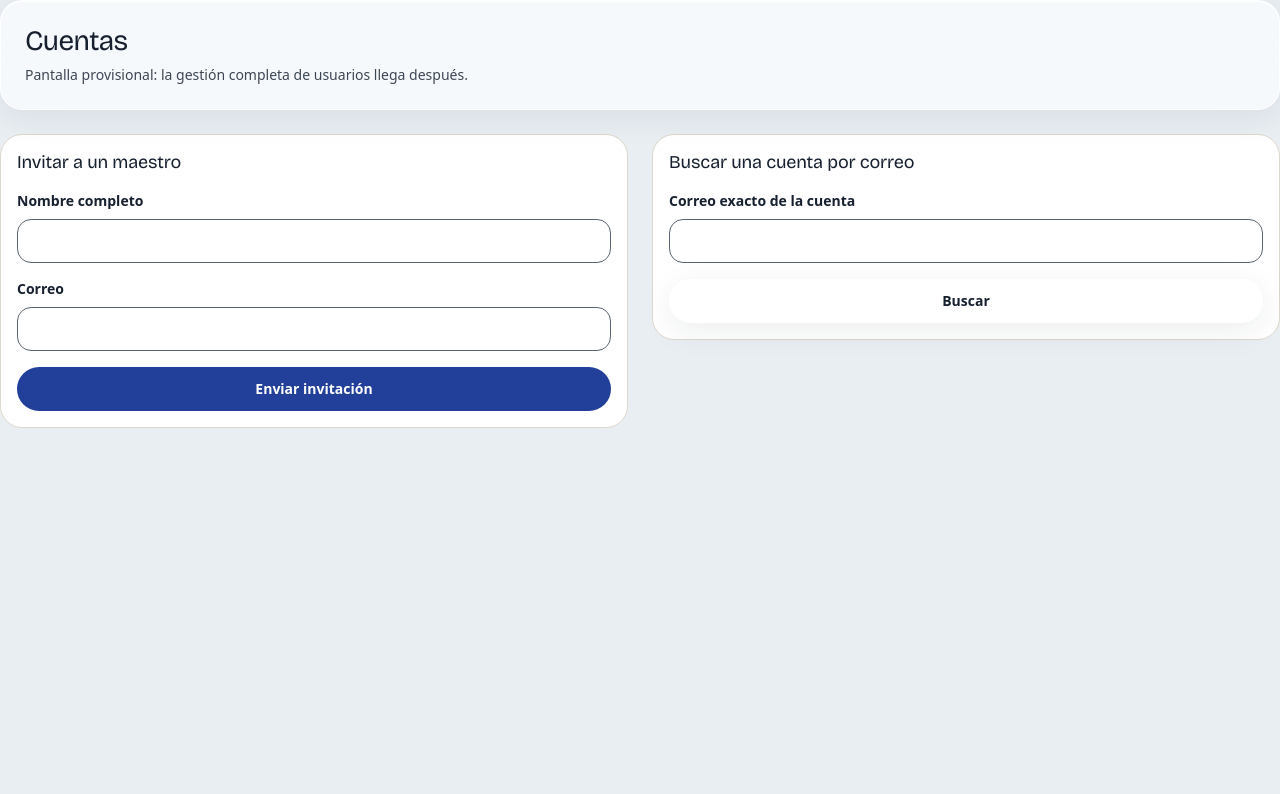
it: ataque (AUTH-02b r1): la temporal se ve una sola vez › buscar otra cuenta con un correo mal escrito (rechazado en el cliente) hace desaparecer la temporal
Type "carla@ejemplo.mx" into the field labelled "Correo exacto de la cuenta" at point(966, 241), box [669,219,1263,263]
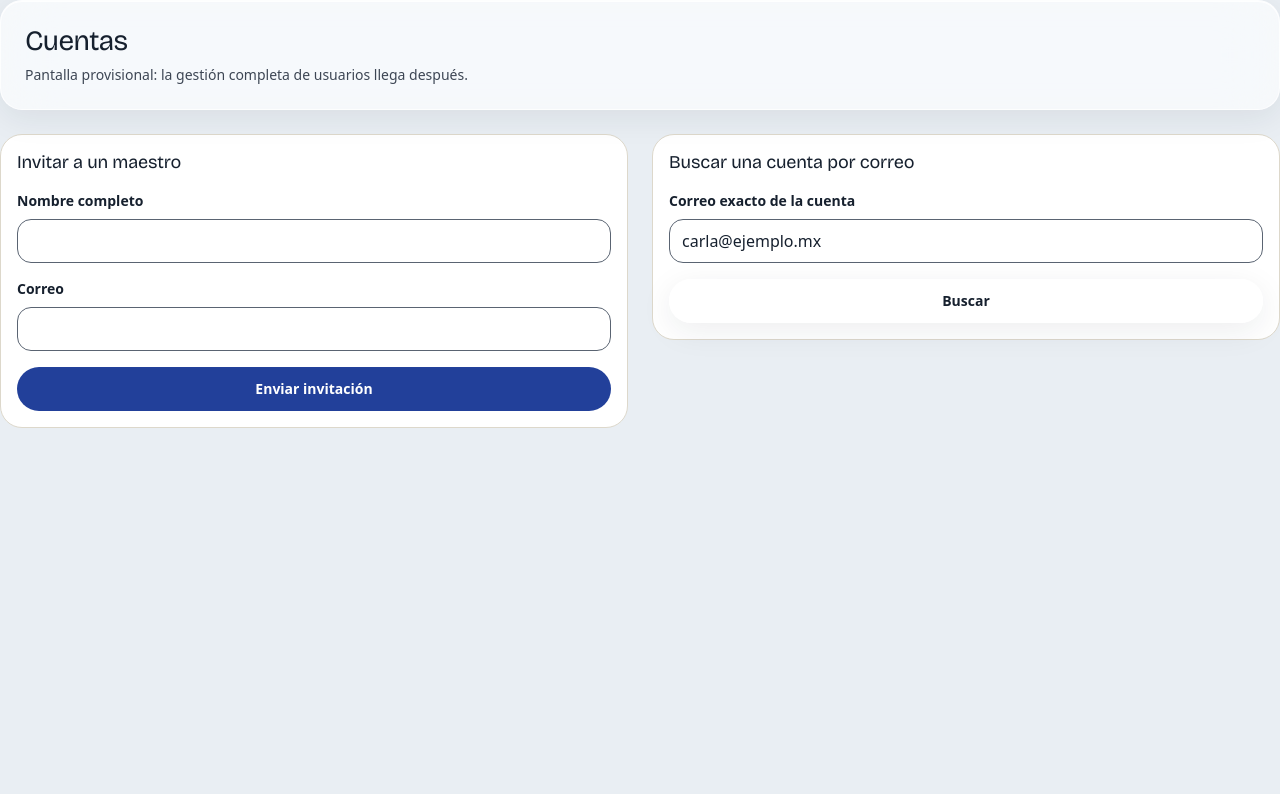
Click the button "Buscar" at point(966, 301), box [669,279,1263,323]
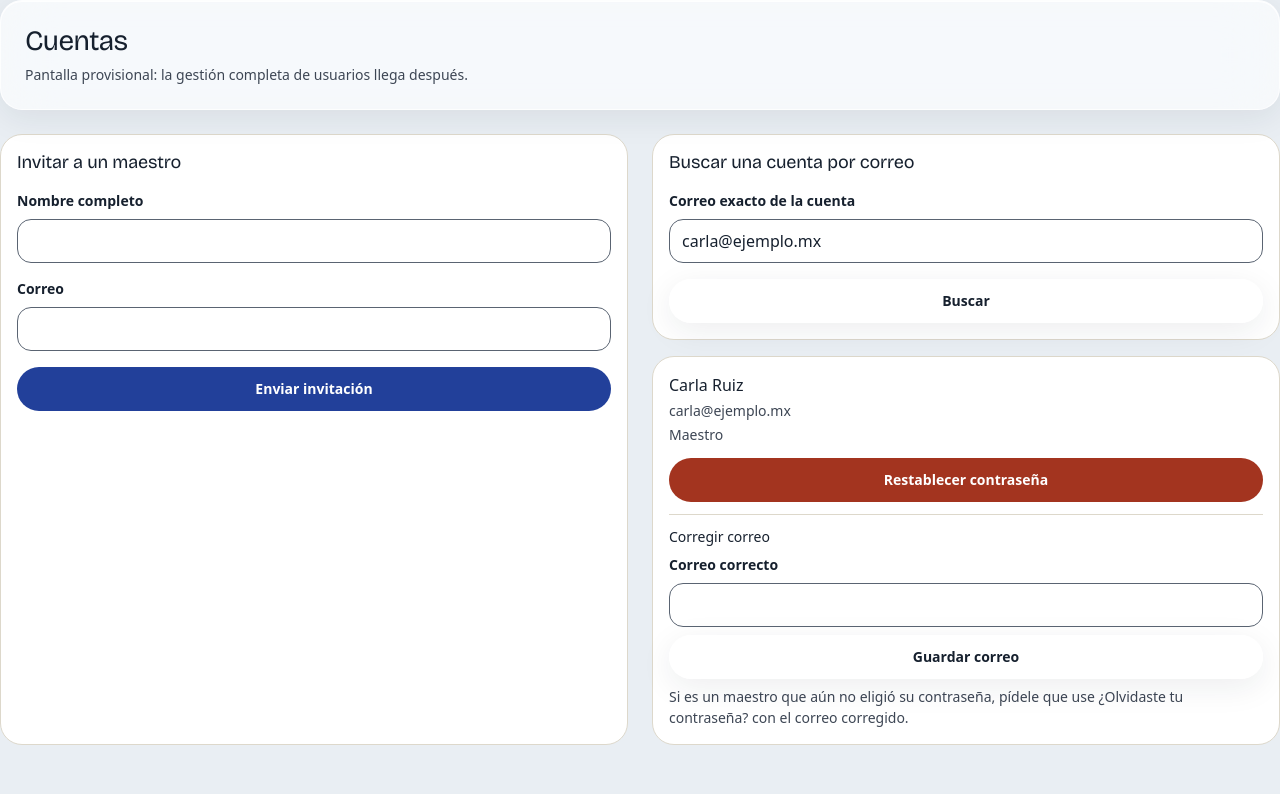
expect the text "Carla Ruiz" is shown: met, box [669,374,744,396]
Click the button "Restablecer contraseña" at point(966, 480), box [669,458,1263,502]
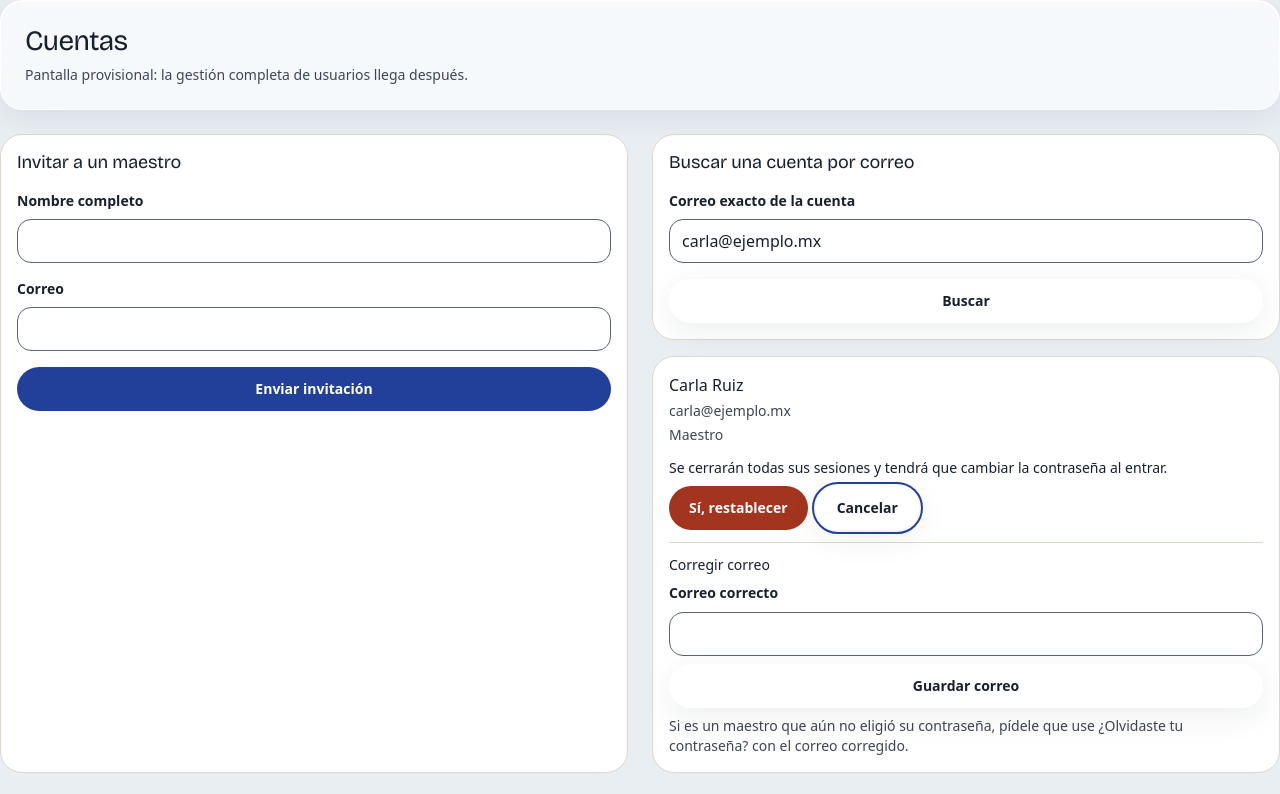
Click the button "Sí, restablecer" at point(738, 508), box [669,486,808,530]
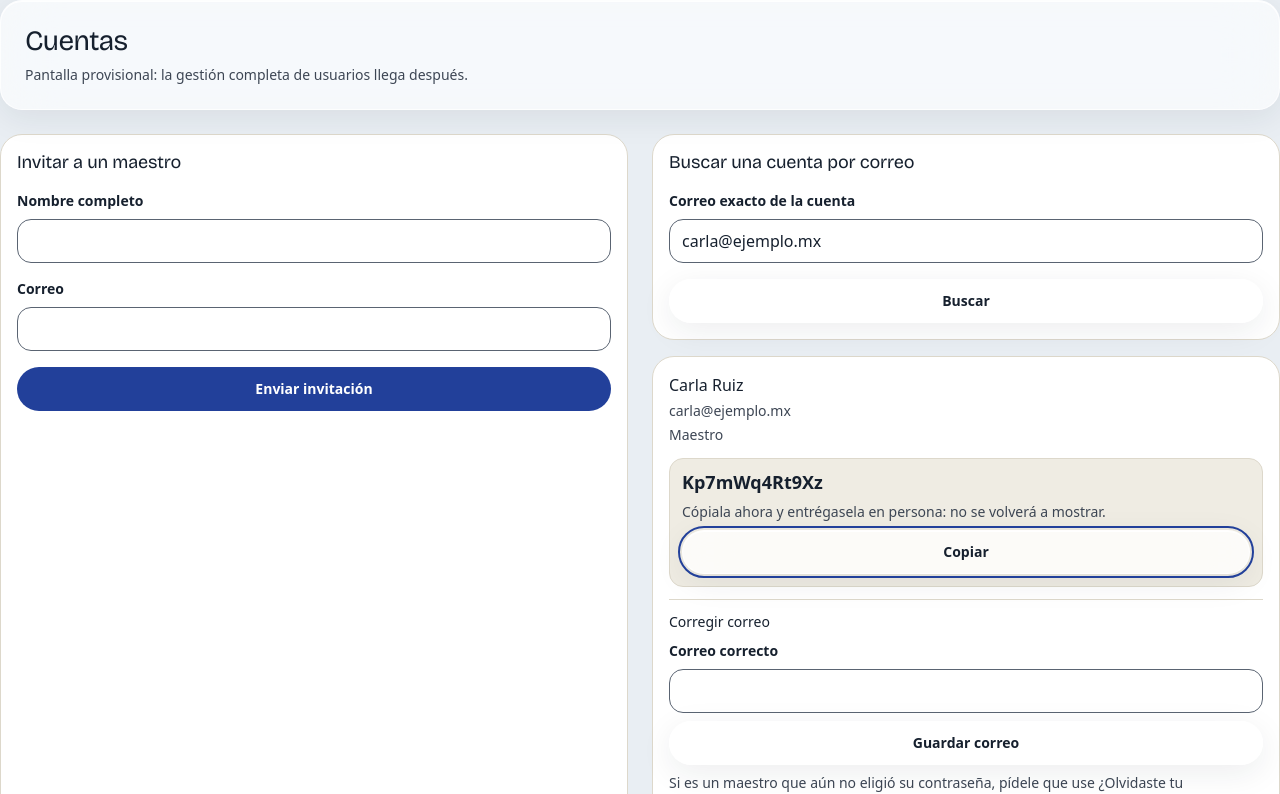
expect the text "Kp7mWq4Rt9Xz" is shown: met, box [682,470,823,494]
Replace the text in the field labelled "Correo exacto de la cuenta" with "beto@ejemplo" at point(966, 241), box [669,219,1263,263]
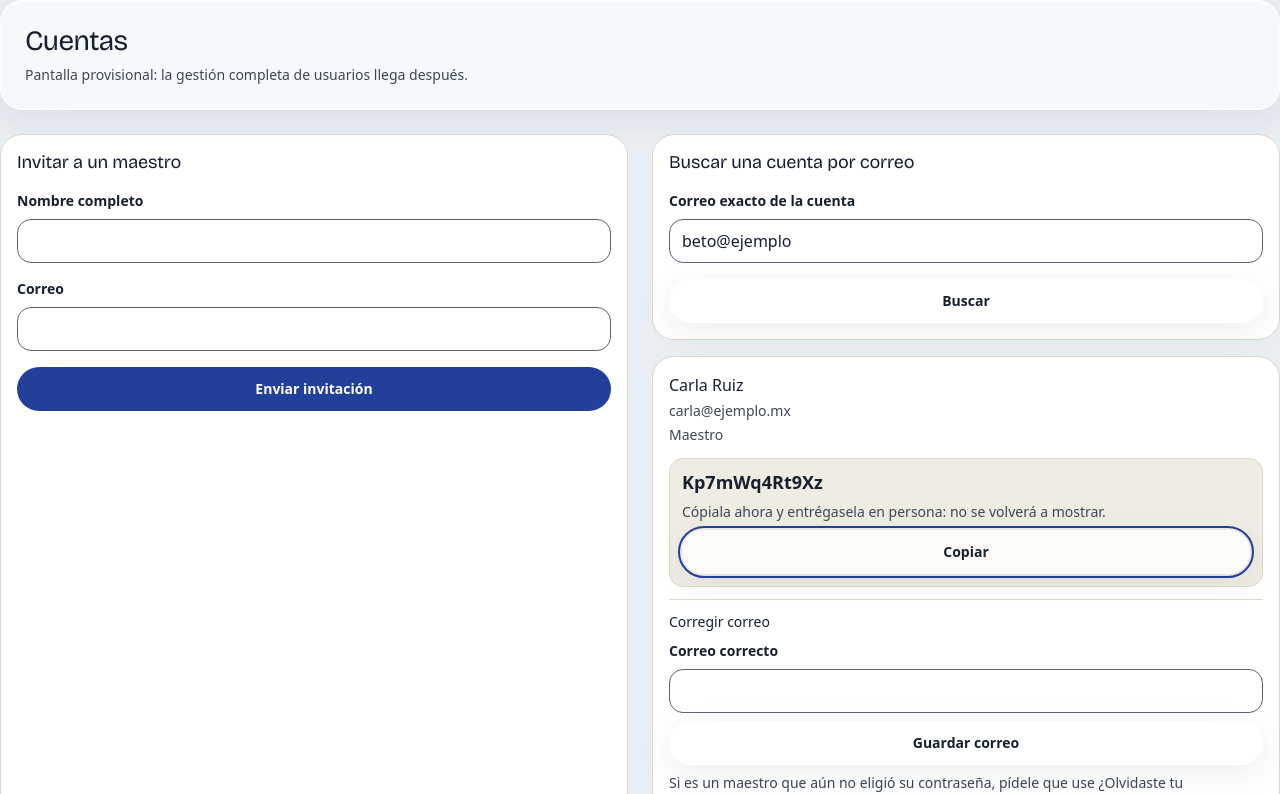
Click the button "Buscar" at point(966, 301), box [669,279,1263,323]
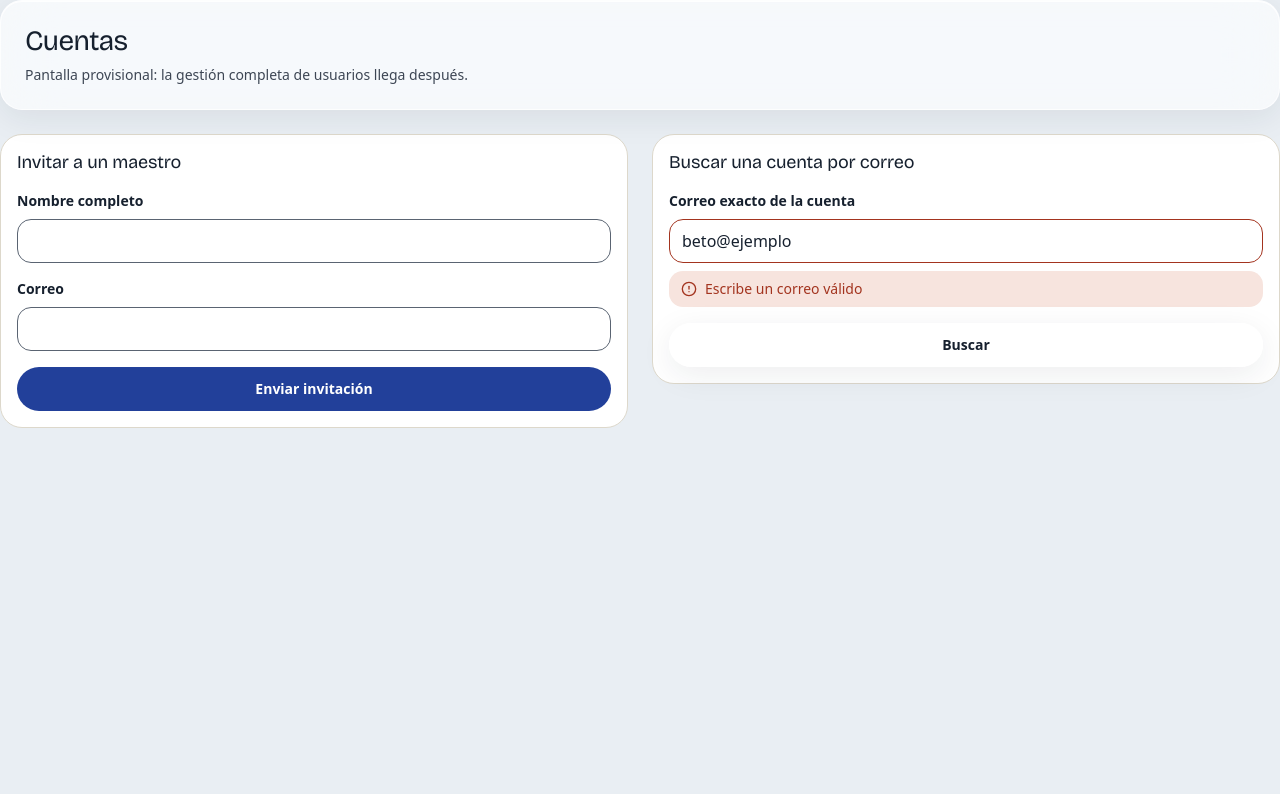
expect the text "Escribe un correo válido" is shown: met, box [669,271,1263,308]
expect the text "Kp7mWq4Rt9Xz" is gone: met
